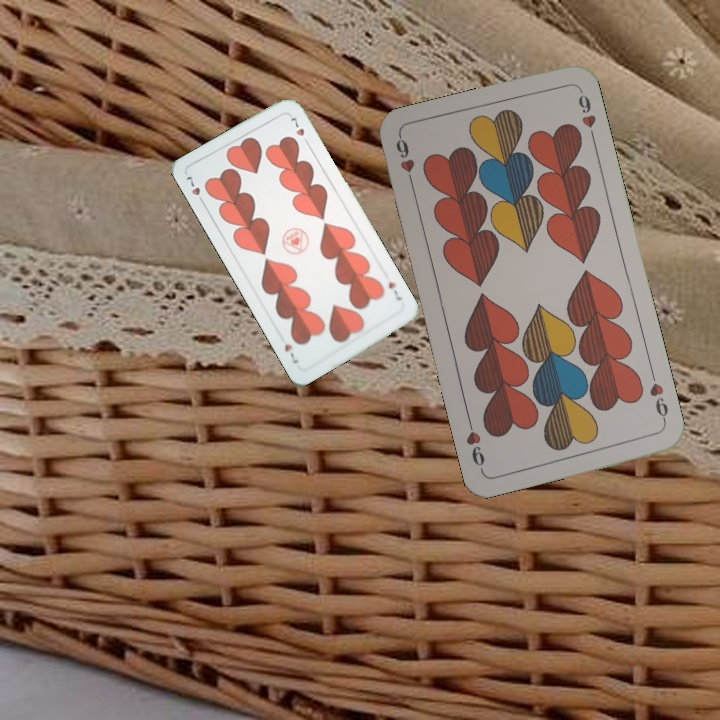H7: (182, 171, 208, 208), (384, 278, 404, 303)
H9: (645, 368, 671, 427), (391, 133, 417, 191)
